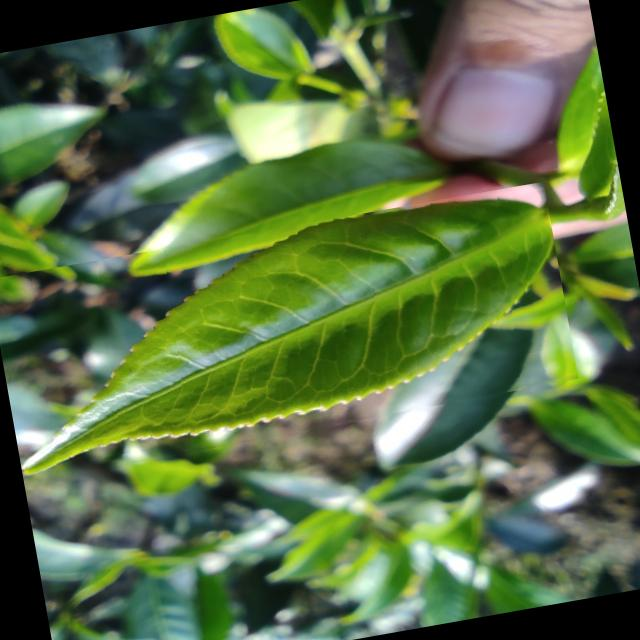Category B(2-4 days): (0, 180, 579, 483)
